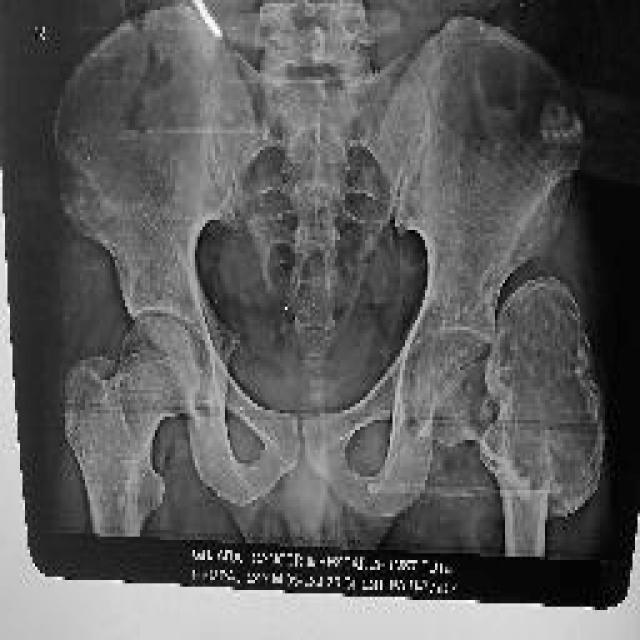bone-cancer: (481, 277, 600, 516)
